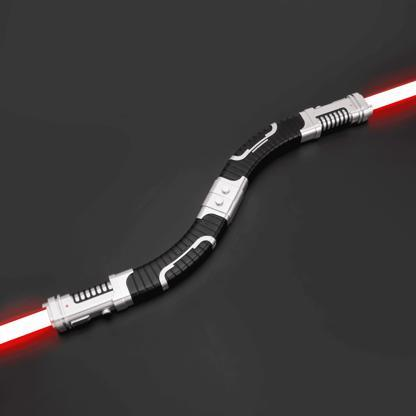sith_lightsaber: (1, 49, 416, 361)
